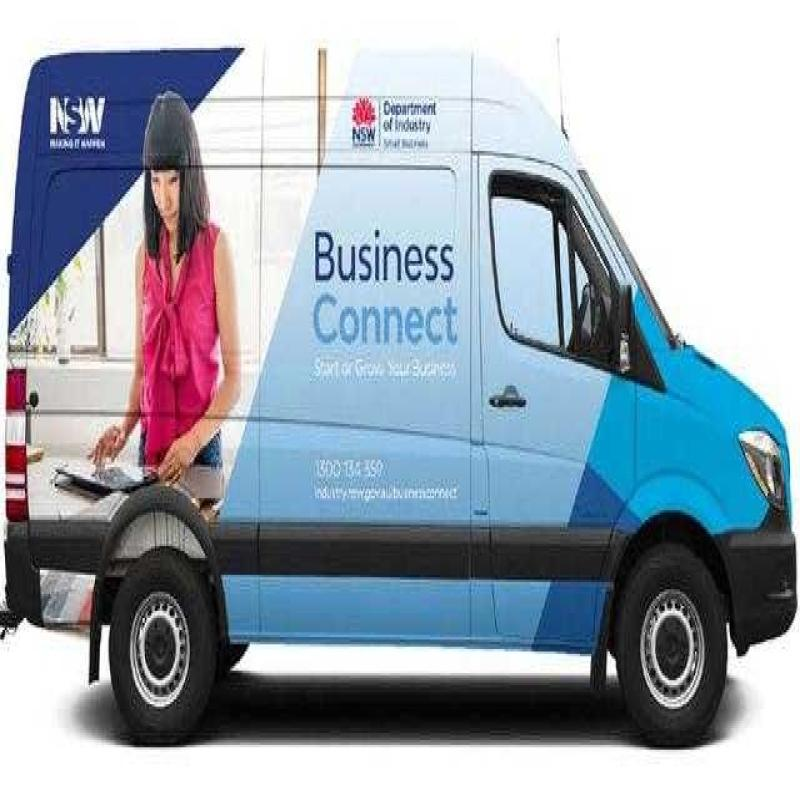bus: (10, 28, 798, 774)
